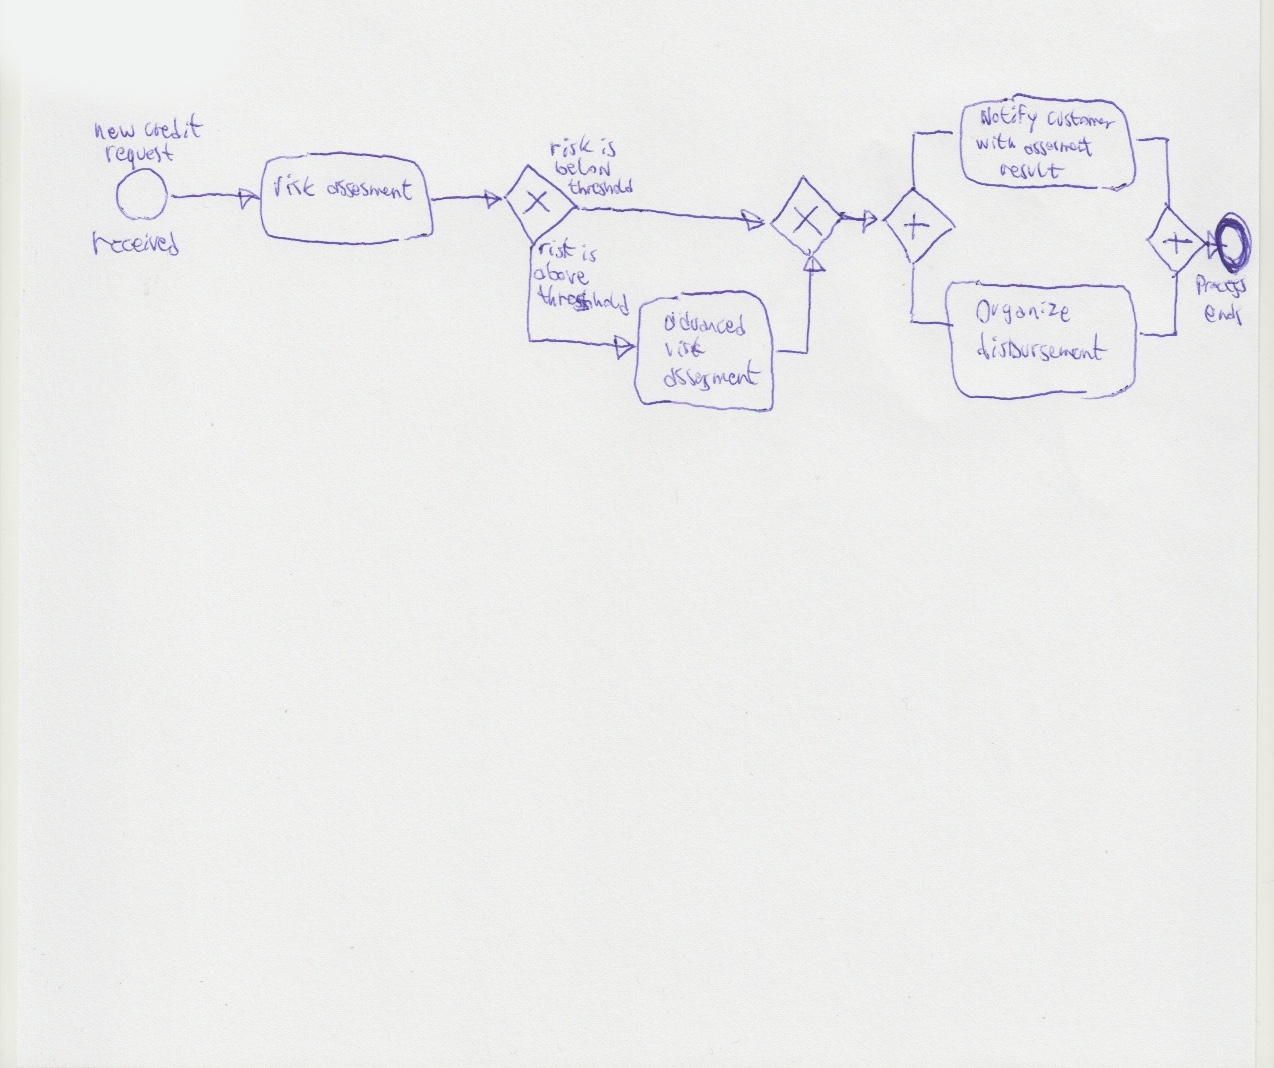Notify: (977, 102, 1040, 136)
Organize: (972, 296, 1073, 328)
Process: (1192, 271, 1249, 301)
above: (531, 259, 592, 288)
advanced: (662, 310, 749, 339)
assesment: (660, 356, 762, 394), (323, 177, 417, 204), (1020, 137, 1094, 159)
below: (550, 154, 617, 179)
credit: (140, 110, 209, 144)
customer: (1044, 108, 1119, 133)
disbursement: (971, 328, 1108, 364)
ends: (1201, 300, 1246, 331)
is: (596, 135, 620, 161), (577, 241, 600, 265)
new: (91, 120, 138, 142)
received: (88, 228, 182, 259)
request: (102, 141, 176, 168)
result: (995, 160, 1066, 181)
risk: (269, 171, 320, 202), (660, 334, 708, 362), (548, 132, 594, 162), (535, 235, 578, 263)
threshold: (534, 283, 634, 320), (564, 178, 636, 200)
with: (972, 131, 1020, 154)
